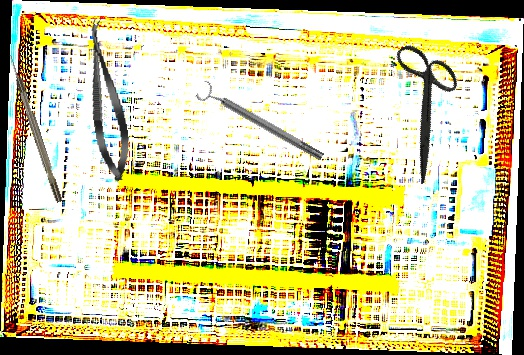Fixation Ring: (194, 78, 328, 168)
Hook Surgical: (7, 53, 63, 204)
Iris Scissors: (355, 31, 495, 185)
Micro Scissor: (77, 17, 136, 183)
